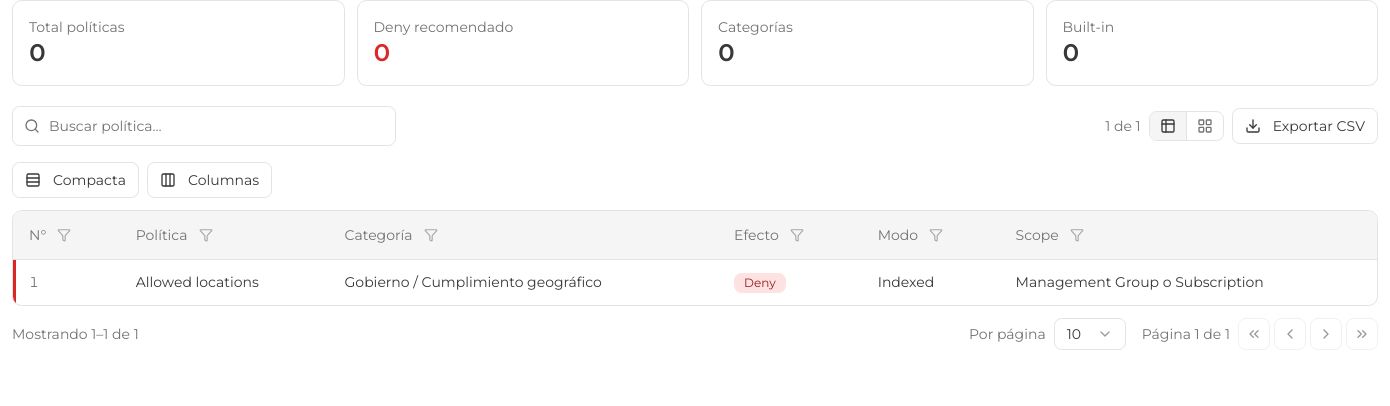
Test: renderiza políticas y filtra por búsqueda
Expected: the text "Allowed locations" is shown, [136,273,259,291]
In the field with placeholder "Buscar política…": (204, 126) [12,106,396,146], type "zzz"
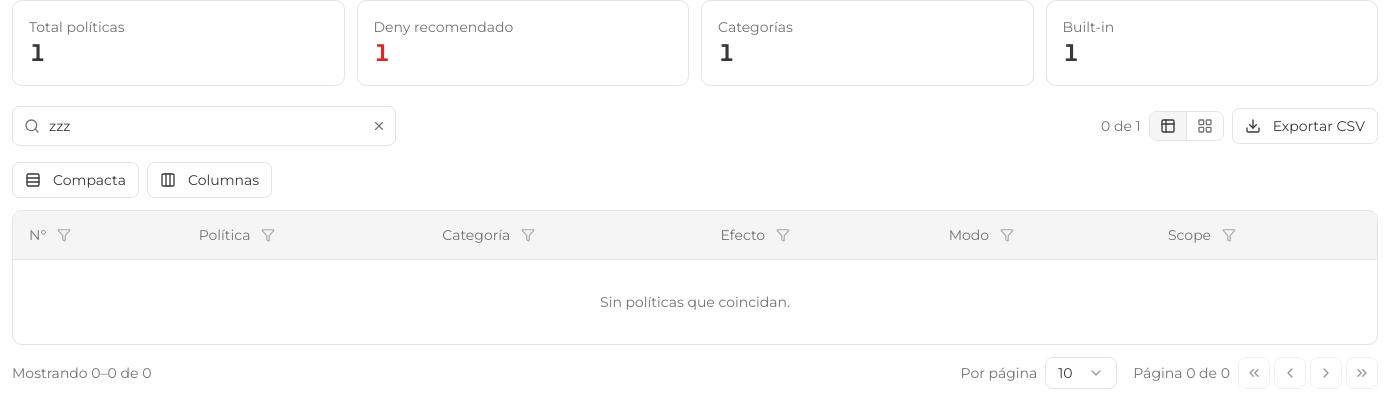
Now the text "Allowed locations" is gone
